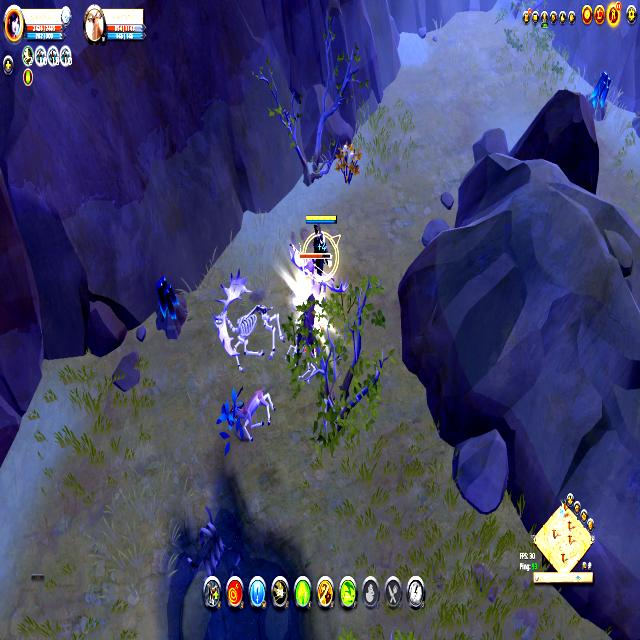hide: (334, 136, 364, 188)
mob: (225, 386, 276, 442)
ore: (290, 244, 338, 375)
player: (152, 273, 190, 342), (585, 66, 614, 121)
red: (304, 213, 336, 268)
